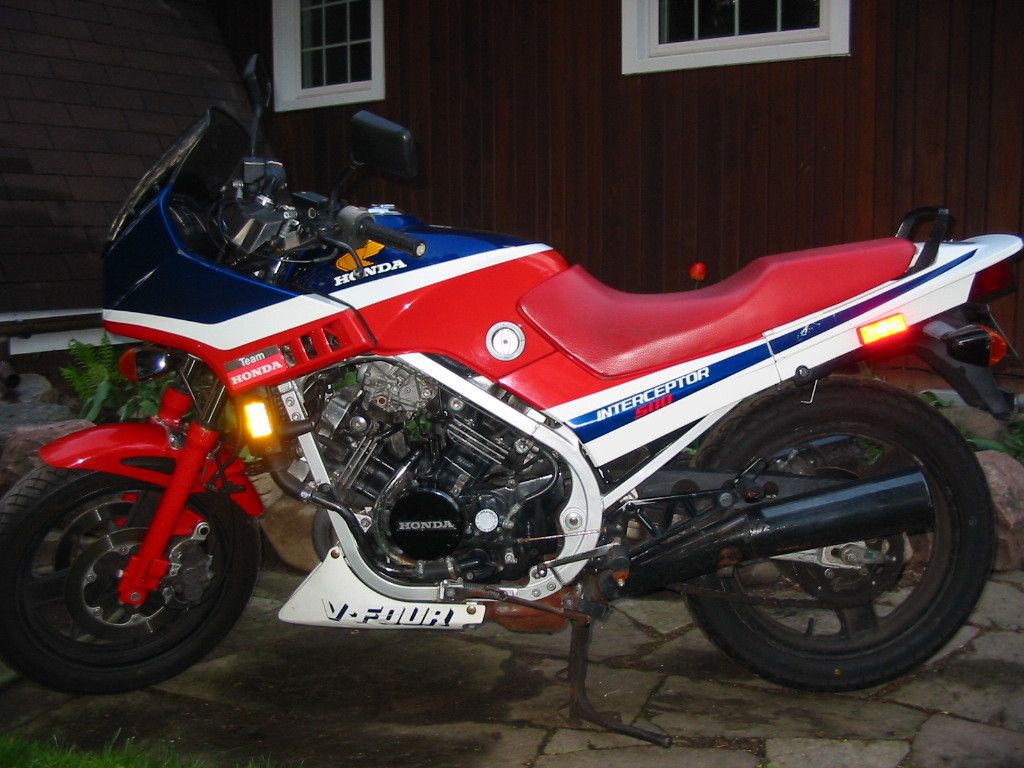Motorcycle: (0, 52, 1020, 744)
